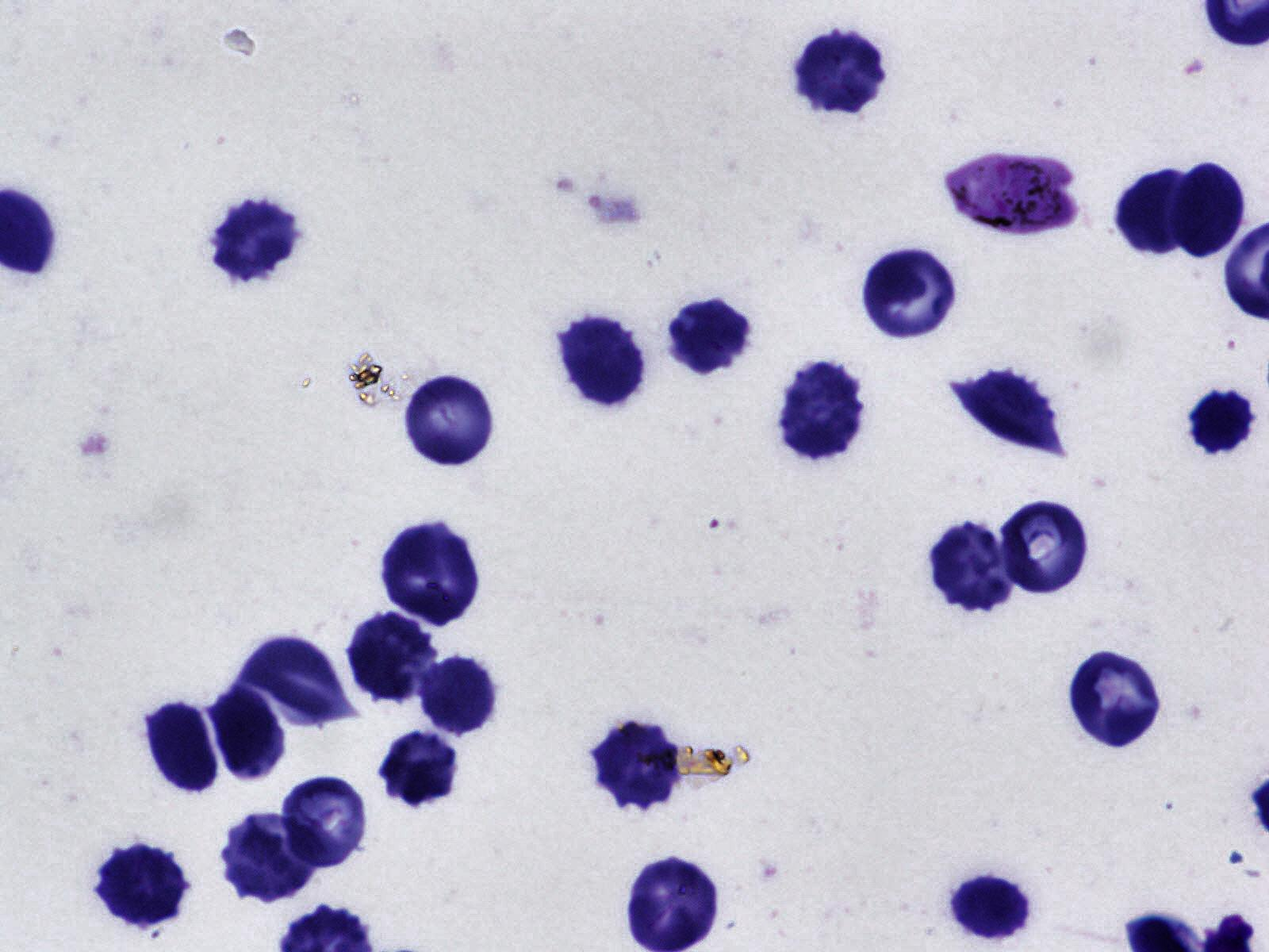Infected: (942, 154, 1079, 234)
Uninfected: (380, 524, 485, 628), (1063, 655, 1164, 753), (859, 248, 960, 344), (951, 371, 1065, 455), (239, 635, 351, 720), (625, 855, 720, 952), (997, 501, 1089, 594), (221, 812, 314, 903), (347, 612, 441, 701), (779, 362, 865, 455), (595, 720, 683, 810), (796, 27, 888, 113), (282, 777, 366, 869), (562, 315, 646, 405), (214, 684, 291, 782), (406, 378, 492, 464), (94, 844, 185, 925), (209, 199, 293, 286), (931, 524, 1014, 612), (1114, 172, 1198, 255), (148, 701, 220, 797), (1173, 165, 1243, 259), (420, 656, 501, 735), (669, 299, 747, 374), (375, 739, 456, 805), (948, 878, 1029, 938), (1190, 386, 1257, 454)
